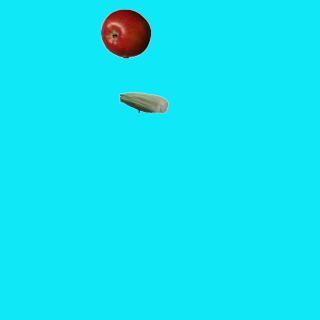Apple Braeburn: (100, 8, 150, 58)
Corn Husk: (118, 77, 168, 127)
